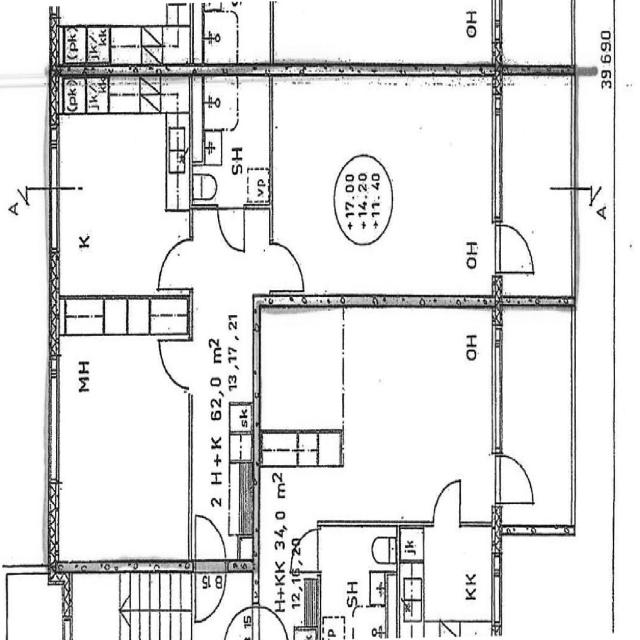door: (495, 449, 536, 508), (496, 220, 537, 278), (429, 474, 465, 530), (193, 569, 226, 628), (269, 238, 305, 292), (156, 236, 192, 289), (157, 336, 191, 391), (192, 510, 228, 561), (216, 205, 246, 254), (258, 605, 288, 640), (224, 605, 252, 640)
window: (487, 321, 508, 457), (44, 357, 62, 482), (488, 102, 507, 203), (0, 65, 46, 91)
zone: (270, 68, 500, 296), (258, 311, 498, 523), (50, 327, 194, 568), (50, 86, 188, 301), (498, 303, 574, 528), (399, 525, 498, 634), (194, 74, 271, 207), (317, 524, 398, 639), (202, 10, 239, 66), (398, 526, 425, 562)
